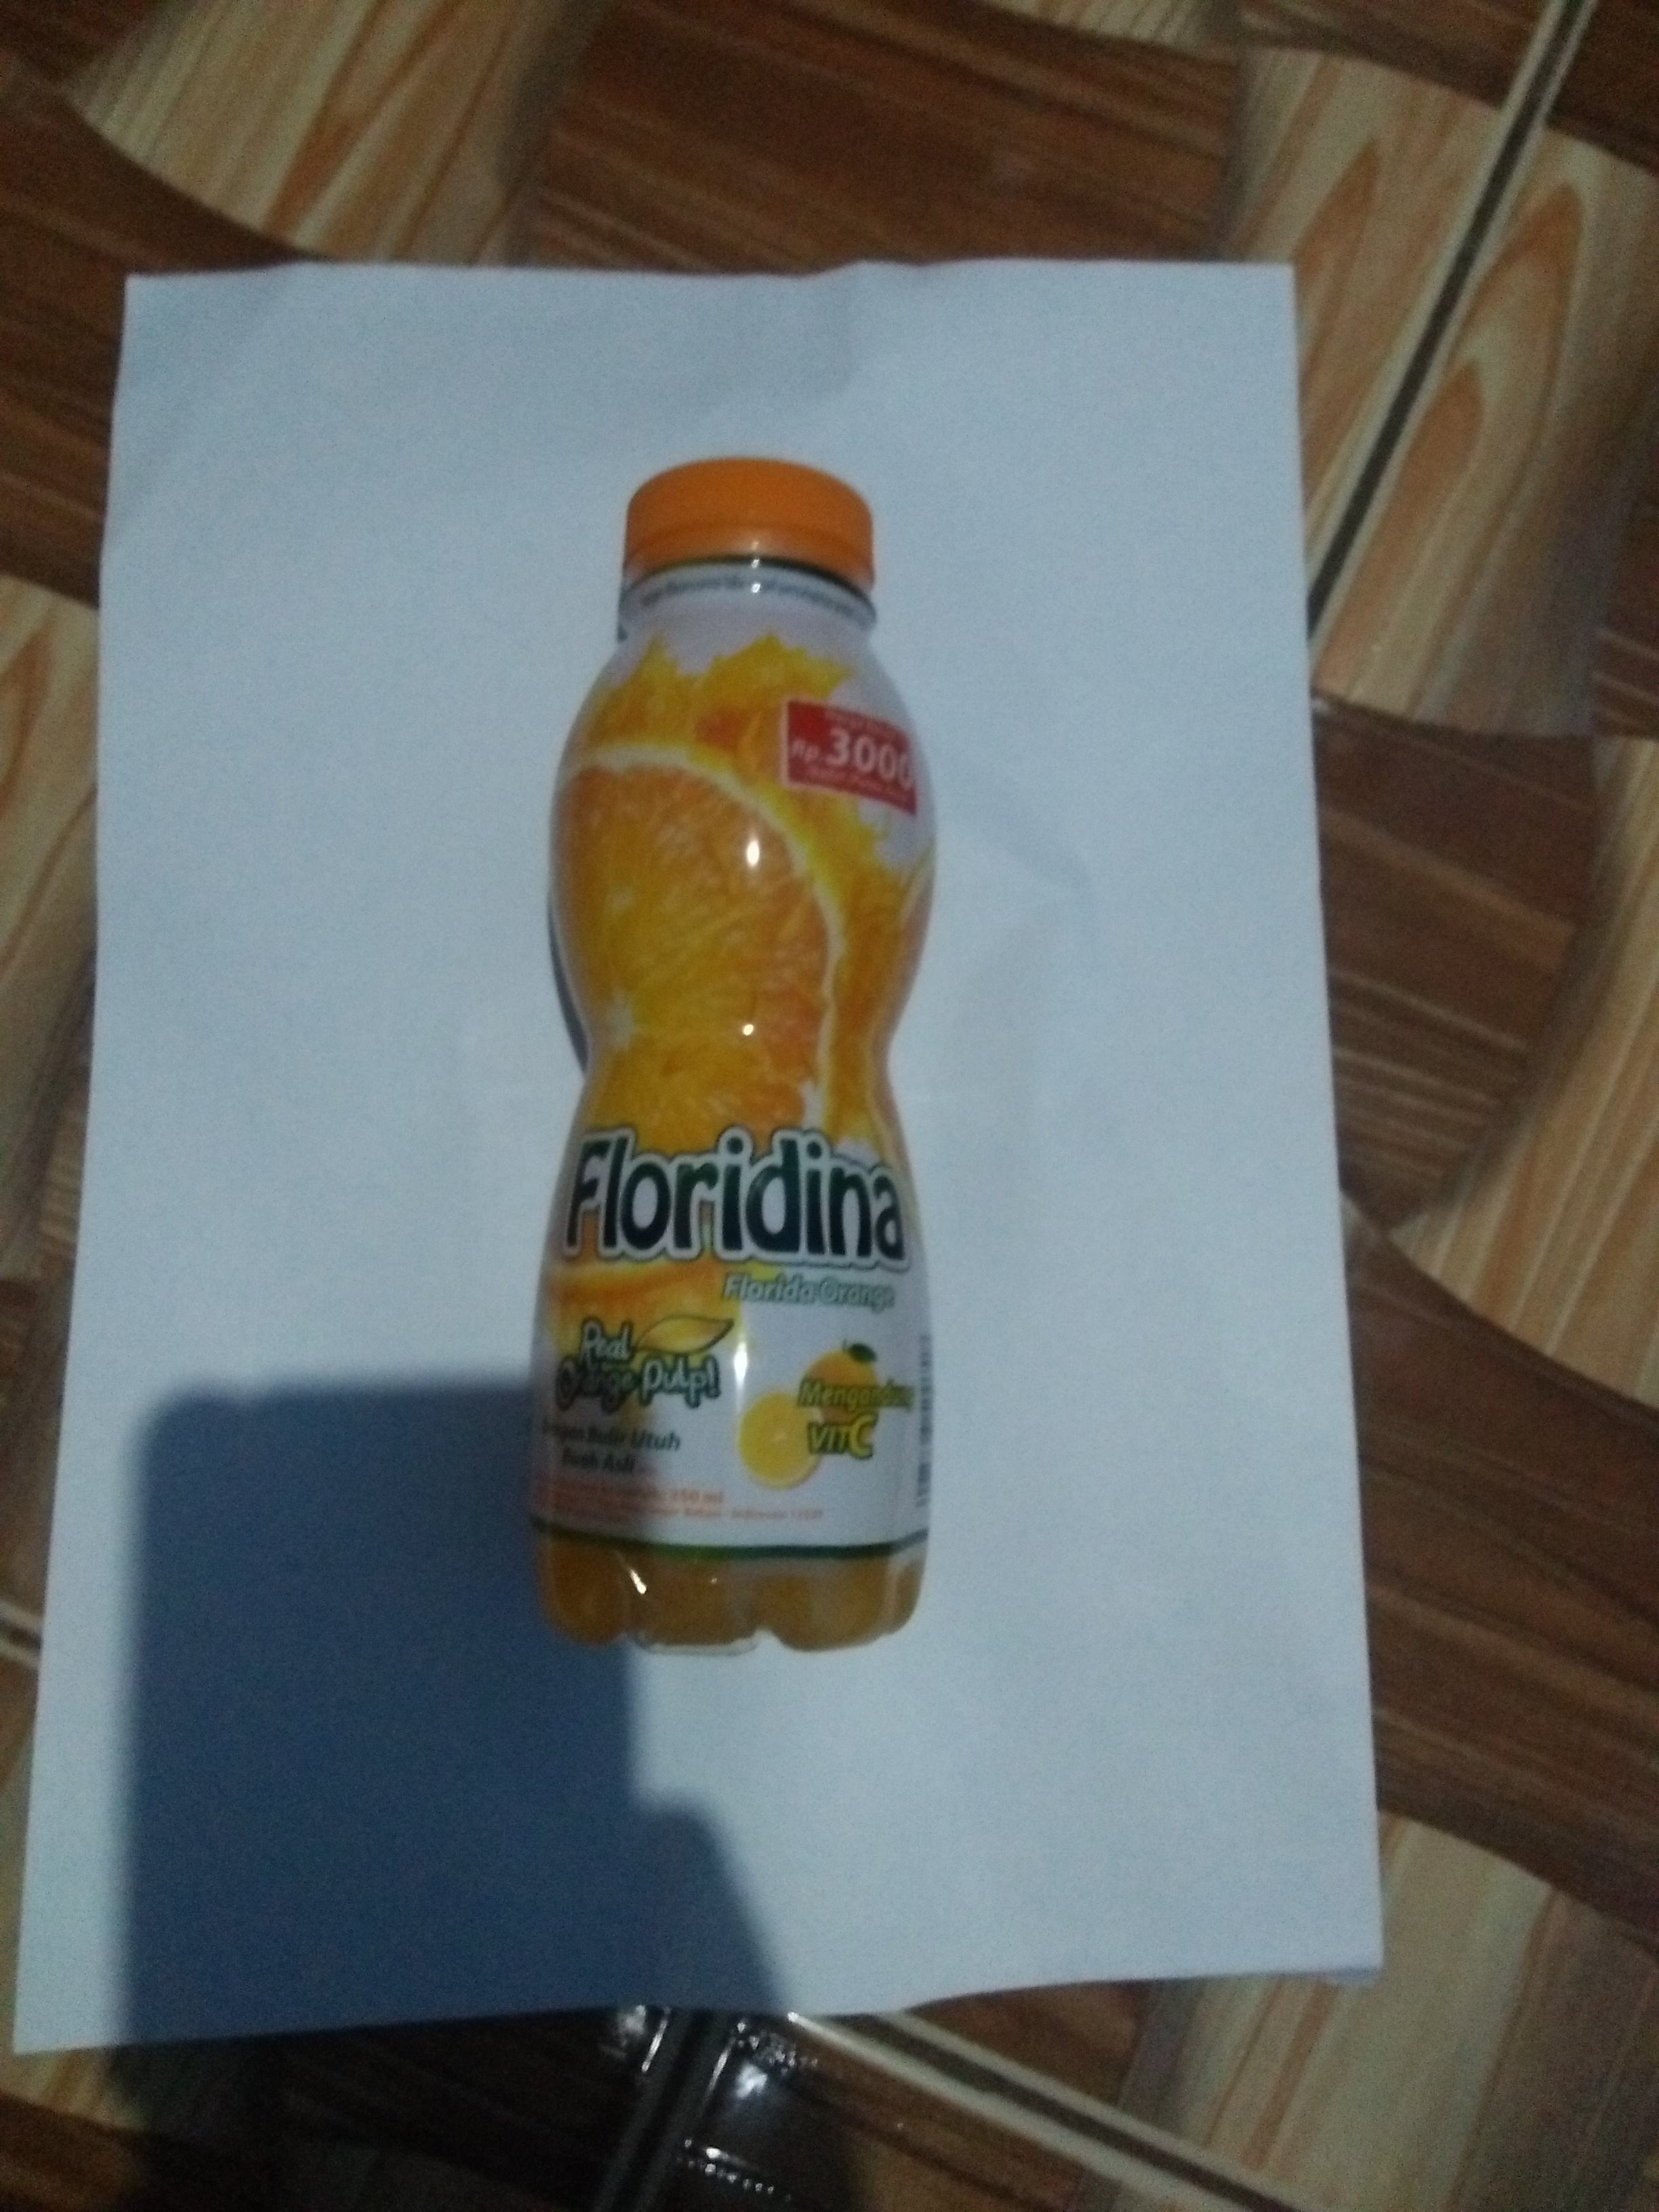Floridina: (537, 448, 953, 1655)
